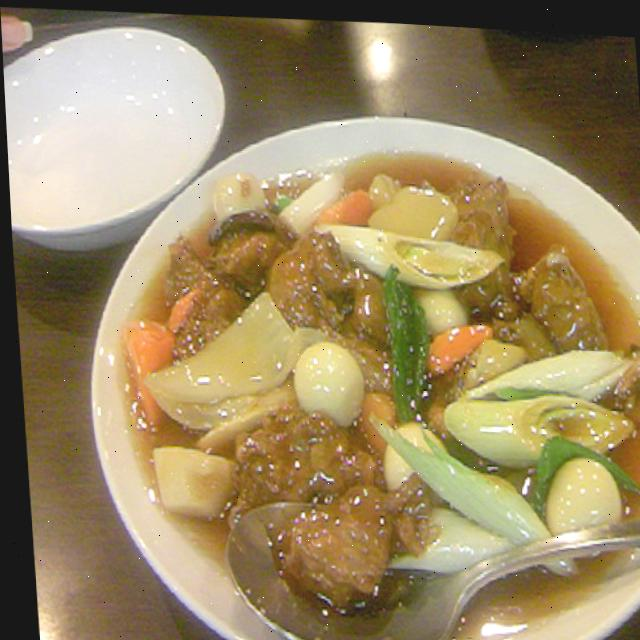猪肉菜式: (103, 111, 640, 640)
